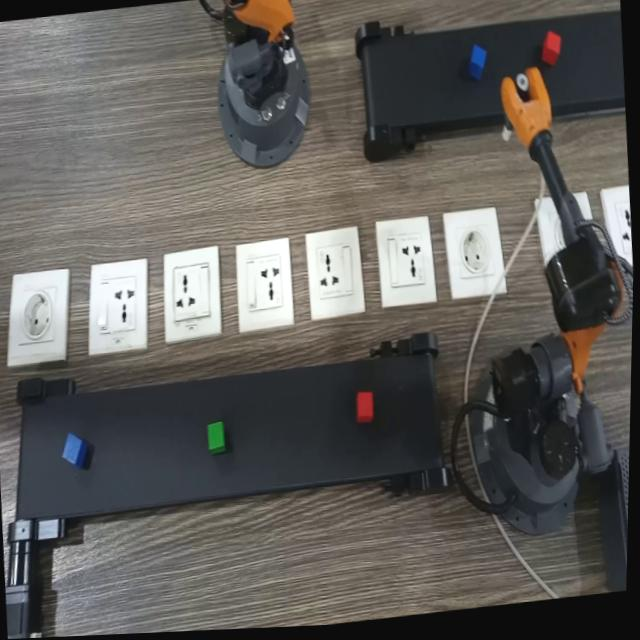cube: (61, 426, 94, 473), (465, 43, 496, 86), (539, 30, 569, 74), (204, 417, 233, 460), (354, 388, 379, 429)
